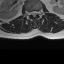CCS_normal: (33, 8, 35, 19)
LFS_normal: (37, 9, 40, 15)
LLS_normal: (35, 9, 37, 17)
RFS_normal: (28, 9, 30, 16)
RLS_normal: (30, 8, 33, 17)
